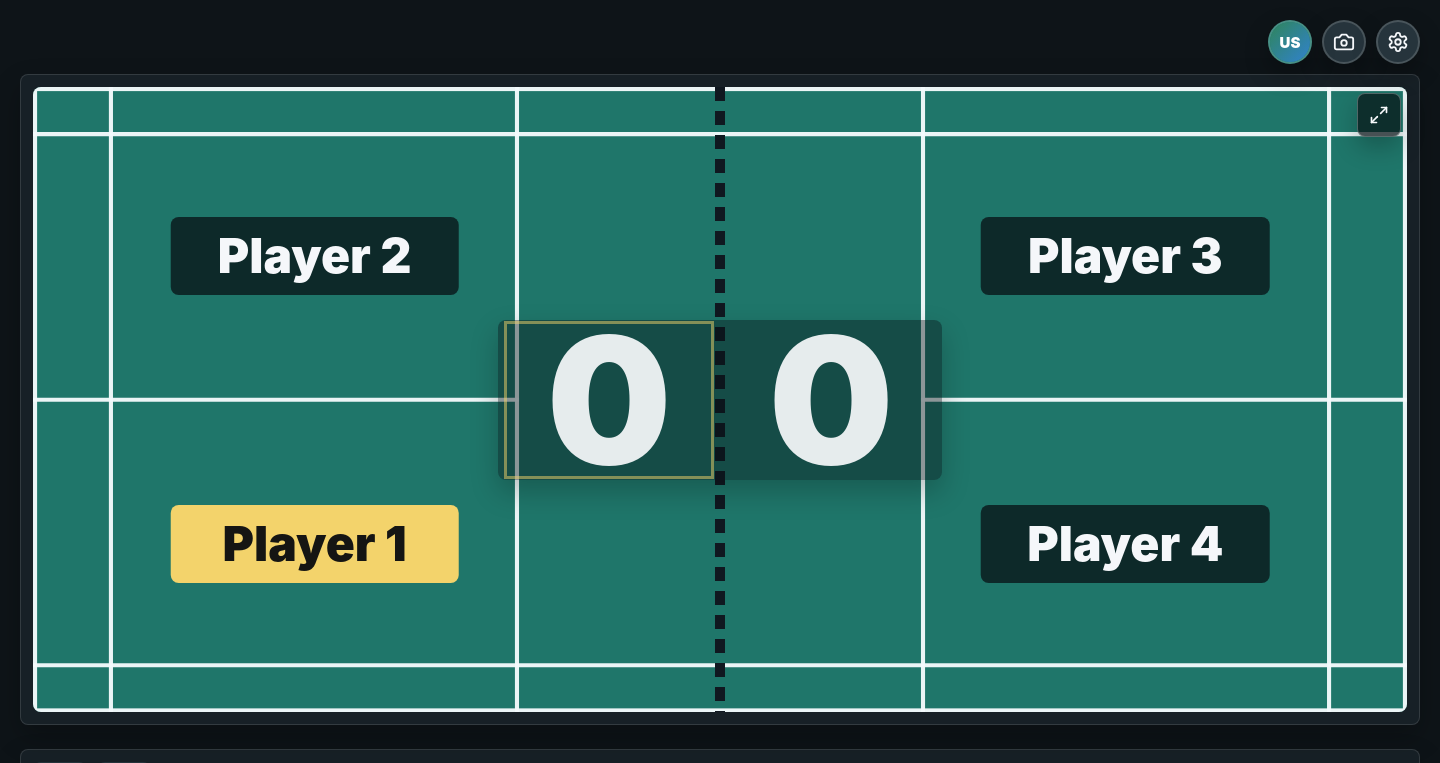
App › opens match settings from the app settings menu
The width and height of the screenshot is (1440, 763).
What coordinates should you click on to do the following:
click the button named "settings menu"
I would click on:
 (1398, 42)
Its box is [1376,20,1420,64].
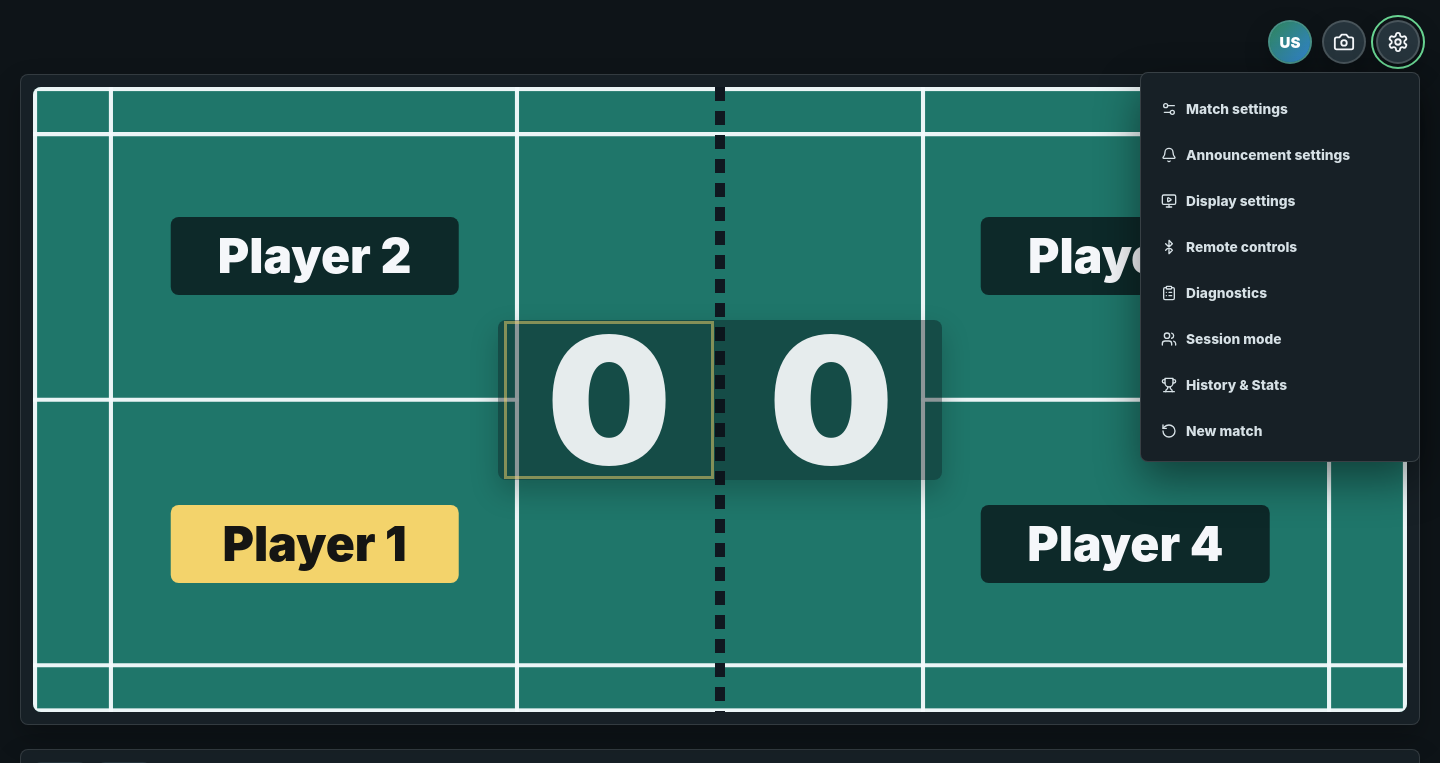
What coordinates should you click on to do the following:
click the menu item "Match settings"
I would click on:
 (1280, 109)
Its box is [1151,89,1409,129].
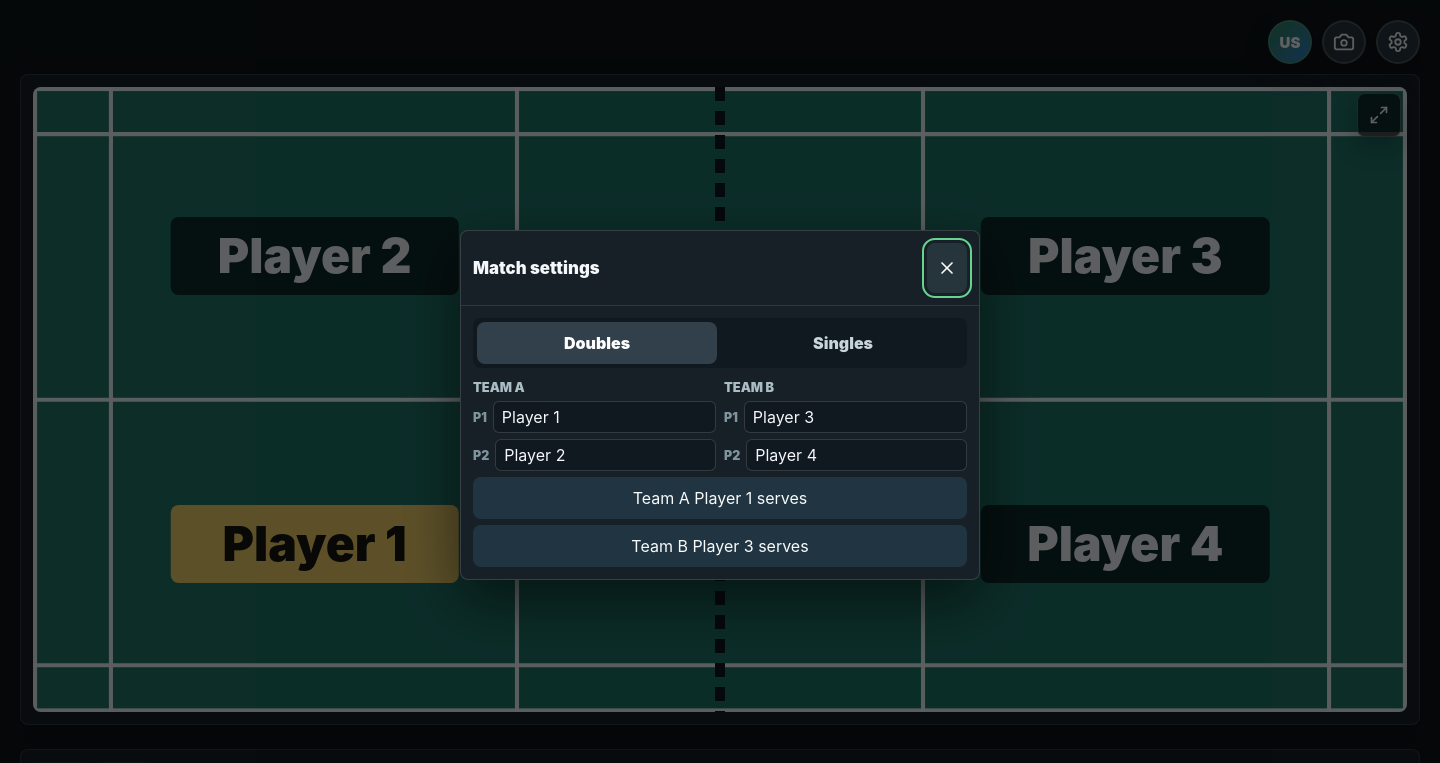
Result: the dialog "Match settings" is shown at [460,230,980,580]
Result: the element named "match mode" is shown at [473,318,967,368]
Result: the field named "team a player 1 name" holds "Player 1" at [493,401,716,433]
